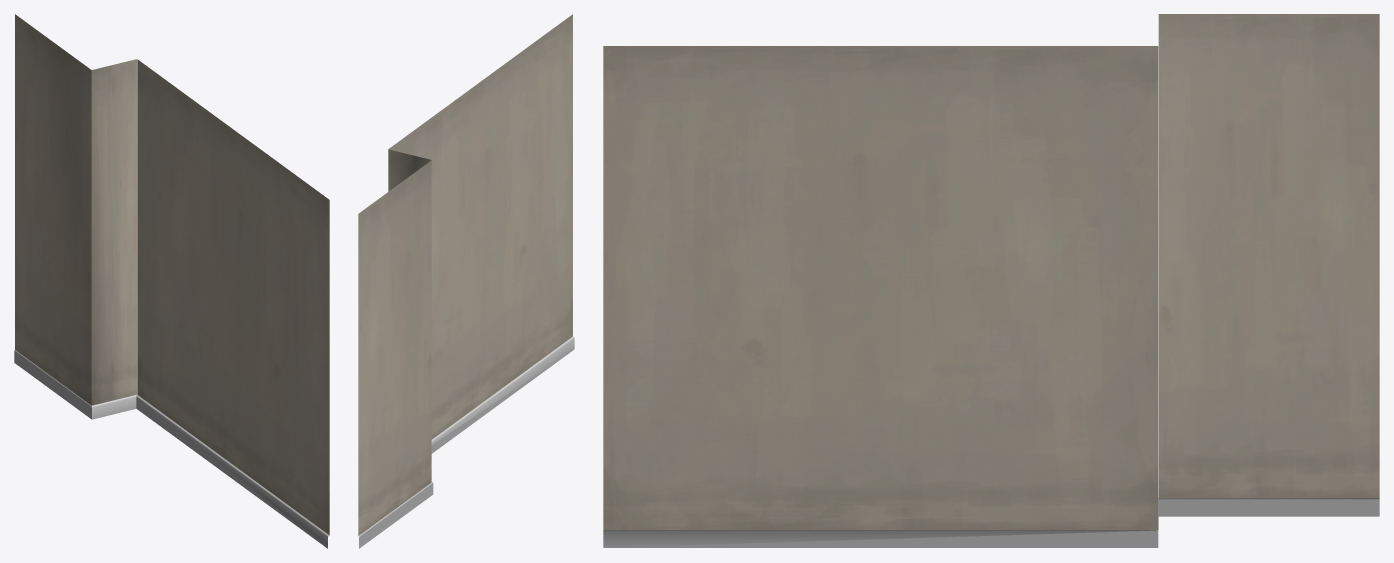
Rendered from Pared_Der_H2.obj.
3 renders of one model, left to right at view 1: azimuth 30°, elevation 25°; view 2: azimuth 150°, elevation 25°; view 3: azimuth 270°, elevation 25°, orthographic. The views are drawn at different scales.
Parts seen in each view (by area): view 1: Pared_Der_H2; view 2: Pared_Der_H2; view 3: Pared_Der_H2.
Part boxes in pixels (x1=…): Pared_Der_H2: x1=14, y1=14, x2=329, y2=548; Pared_Der_H2: x1=358, y1=14, x2=574, y2=548; Pared_Der_H2: x1=603, y1=14, x2=1379, y2=547.
Size of the model in its own units: 0.3681 by 2.66 by 3.72.
3 materials, 3 textured.
